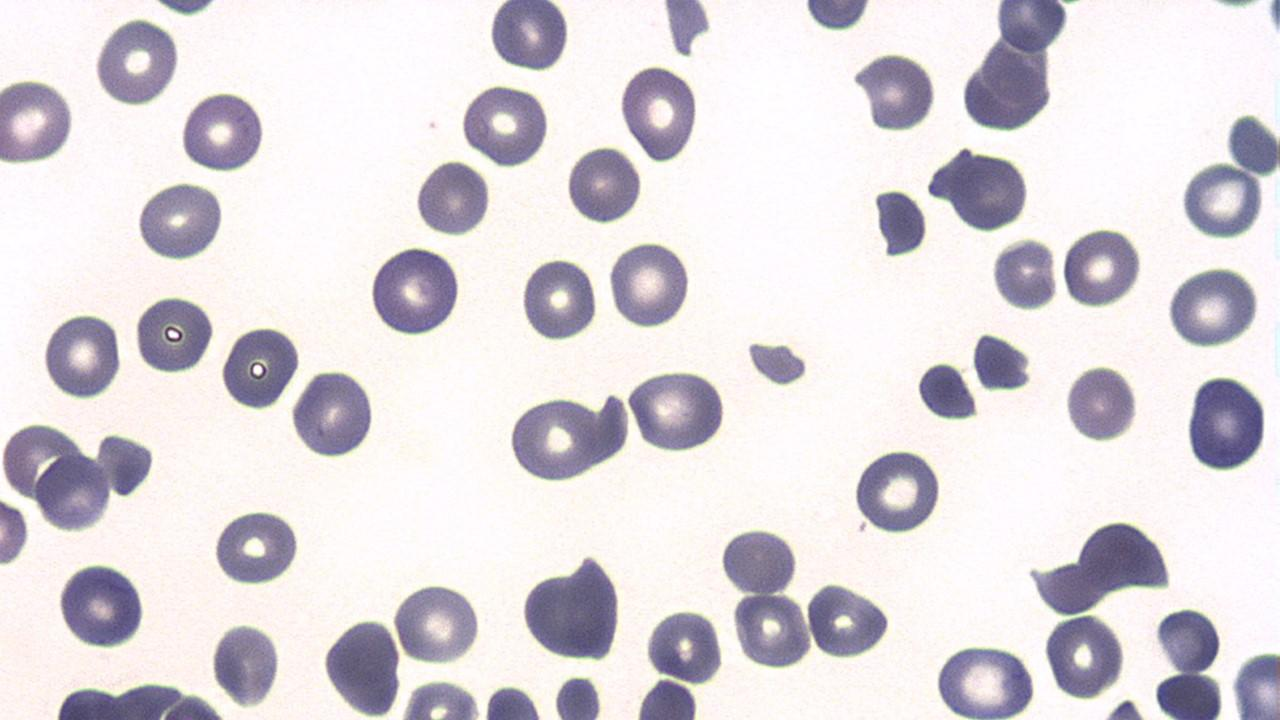Platelets: (210, 503, 305, 586), (1177, 159, 1267, 241), (852, 51, 939, 135), (206, 619, 283, 709), (1065, 362, 1141, 445), (487, 2, 570, 72), (988, 237, 1059, 312), (92, 429, 160, 502), (870, 185, 930, 259), (967, 331, 1034, 394), (992, 2, 1072, 54), (912, 359, 978, 422), (1221, 110, 1279, 180), (742, 340, 812, 386), (662, 3, 712, 60), (551, 674, 606, 720), (802, 1, 876, 32), (147, 0, 219, 18), (1259, 0, 1279, 47)
RBC: (1, 298, 433, 717), (0, 0, 368, 421), (0, 400, 192, 720), (368, 241, 462, 338), (1183, 370, 1269, 476), (506, 393, 606, 484), (626, 367, 730, 453), (56, 556, 146, 652), (619, 61, 700, 166), (320, 617, 405, 717), (852, 444, 944, 536), (930, 641, 1039, 718), (93, 13, 180, 109), (289, 365, 376, 460), (460, 79, 550, 170), (606, 236, 690, 332), (392, 578, 482, 667), (209, 504, 304, 588), (1167, 263, 1259, 349), (134, 177, 224, 264), (217, 321, 301, 412), (179, 87, 267, 173), (42, 308, 122, 401), (1043, 611, 1125, 701), (1179, 157, 1265, 242), (1059, 223, 1143, 310), (802, 580, 892, 660), (519, 254, 599, 344), (0, 74, 76, 167), (131, 291, 214, 376), (564, 141, 644, 227), (730, 588, 814, 669), (858, 47, 936, 134), (2, 419, 81, 504), (1063, 360, 1139, 445), (414, 156, 492, 238), (644, 605, 724, 684), (35, 450, 111, 532), (488, 0, 570, 74), (716, 525, 796, 597), (990, 234, 1059, 314), (994, 1, 1071, 56), (1152, 668, 1226, 720), (399, 676, 482, 719), (1232, 650, 1280, 716), (634, 676, 700, 718), (0, 489, 30, 569), (482, 682, 544, 718)
WBC: (814, 0, 1280, 720), (760, 0, 1219, 329), (519, 548, 626, 664), (958, 29, 1059, 136), (933, 144, 1035, 234), (321, 612, 403, 718), (36, 451, 112, 532), (92, 430, 157, 502), (993, 1, 1071, 53), (800, 2, 878, 32)
